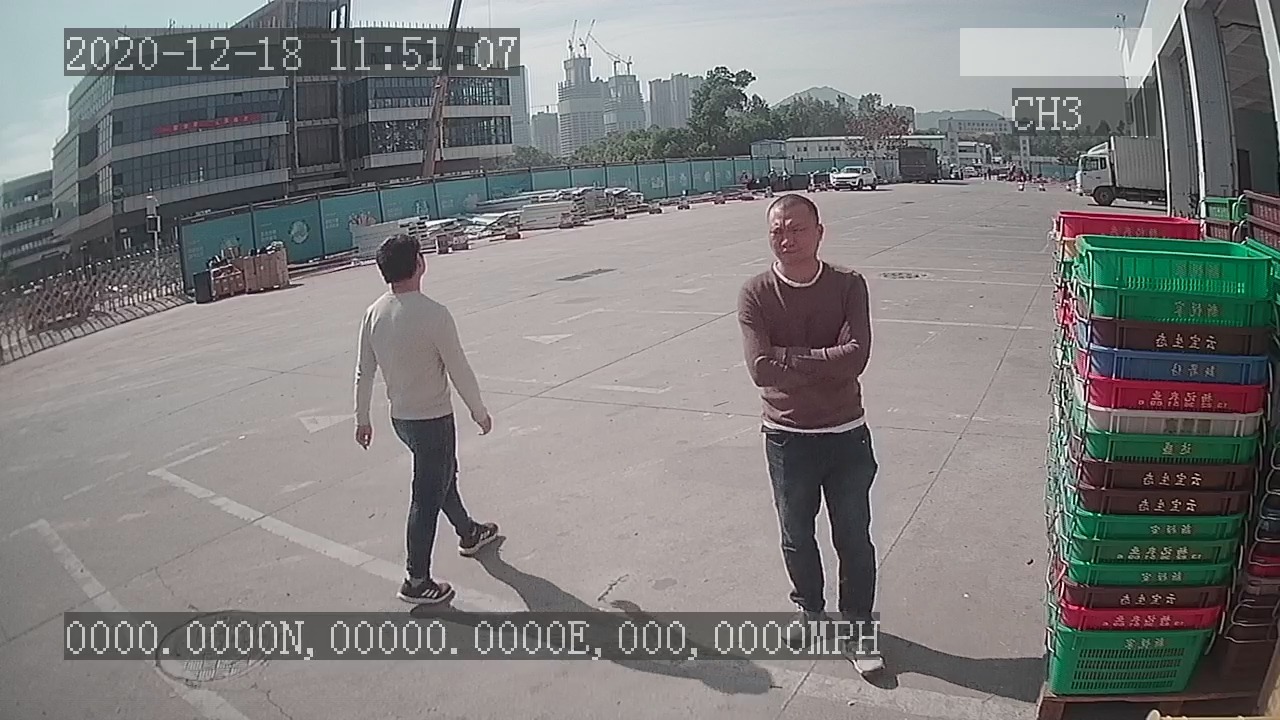person: (343, 227, 508, 608)
